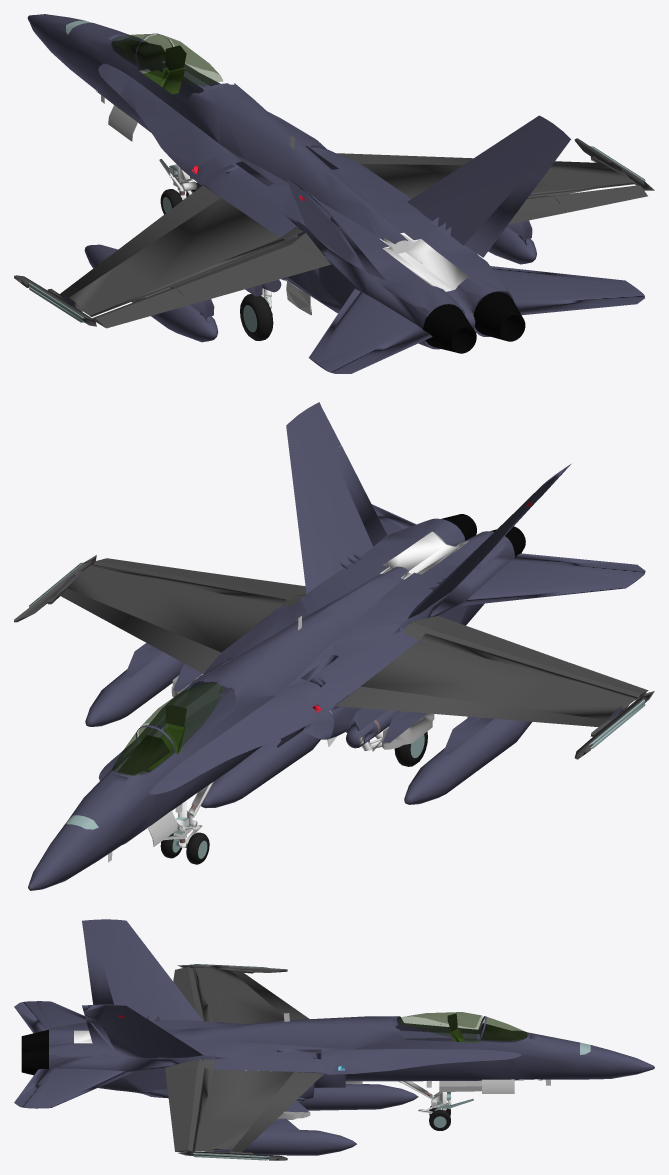
File: Airplane HORNET.obj
3 views of the same model, one above another, from view 1: azimuth 30°, elevation 25°; view 2: azimuth 150°, elevation 25°; view 3: azimuth 270°, elevation 25° (orthographic). The views are drawn at different scales.
Parts seen in each view (by area): view 1: (null); view 2: (null); view 3: (null).
Part boxes in pixels (box(x1,y1,x2,y2)): (null): box(14, 14, 654, 373); (null): box(14, 402, 654, 890); (null): box(14, 919, 654, 1160).
Size of the model in its own units: 7373 by 2972 by 10527.
